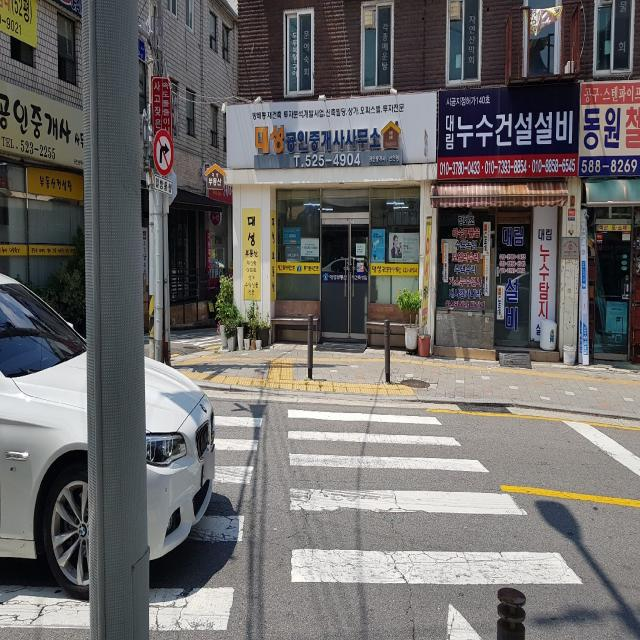횡단보도: (0, 403, 587, 640)
